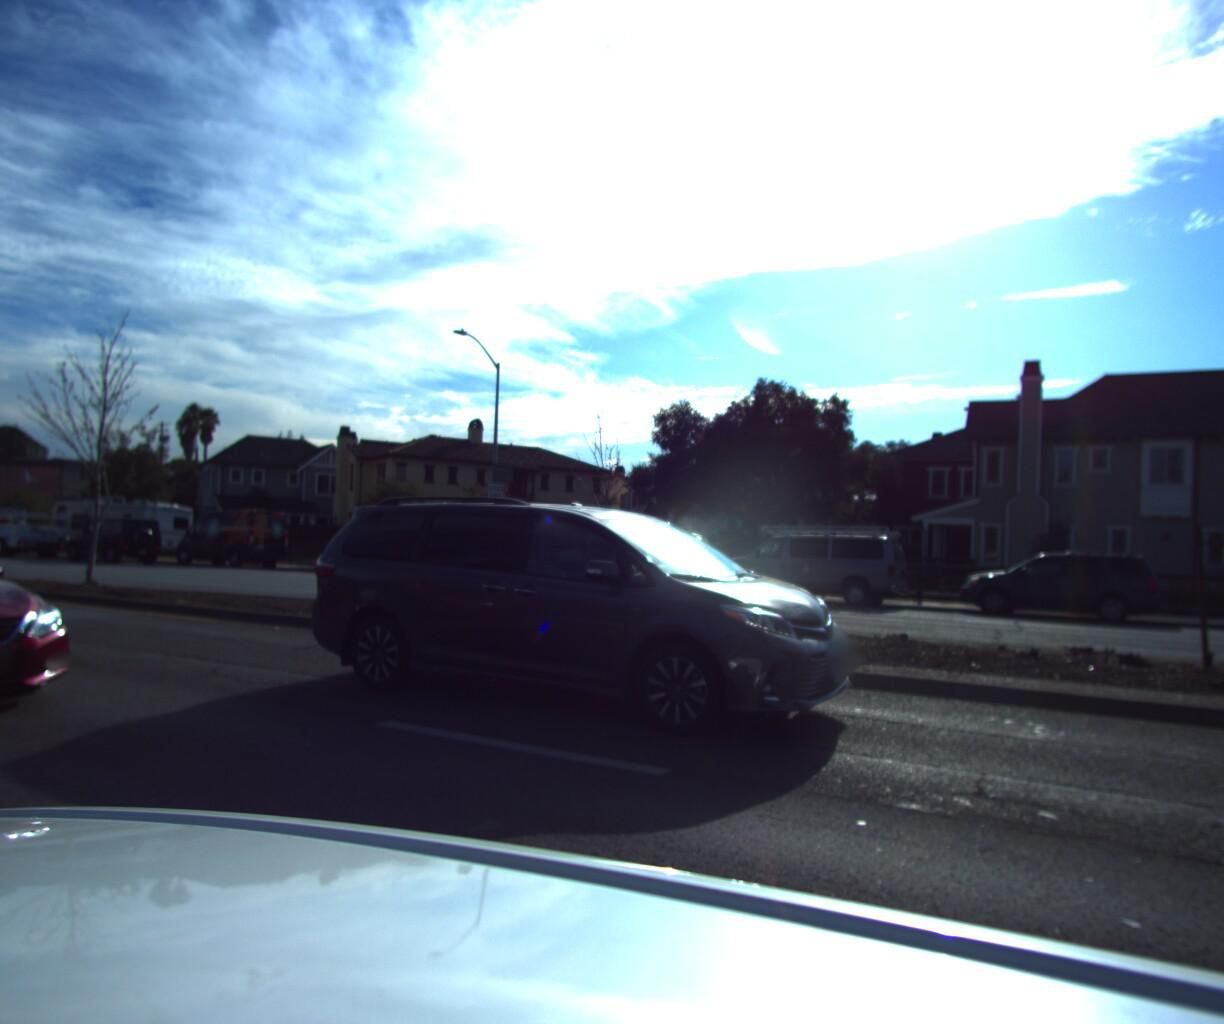car: (298, 483, 883, 759), (0, 511, 130, 785), (705, 516, 915, 613), (948, 539, 1168, 629), (541, 519, 724, 597), (171, 501, 297, 568), (58, 510, 174, 563), (0, 499, 77, 555), (0, 510, 11, 563)
other_vehicle: (37, 489, 201, 563)
